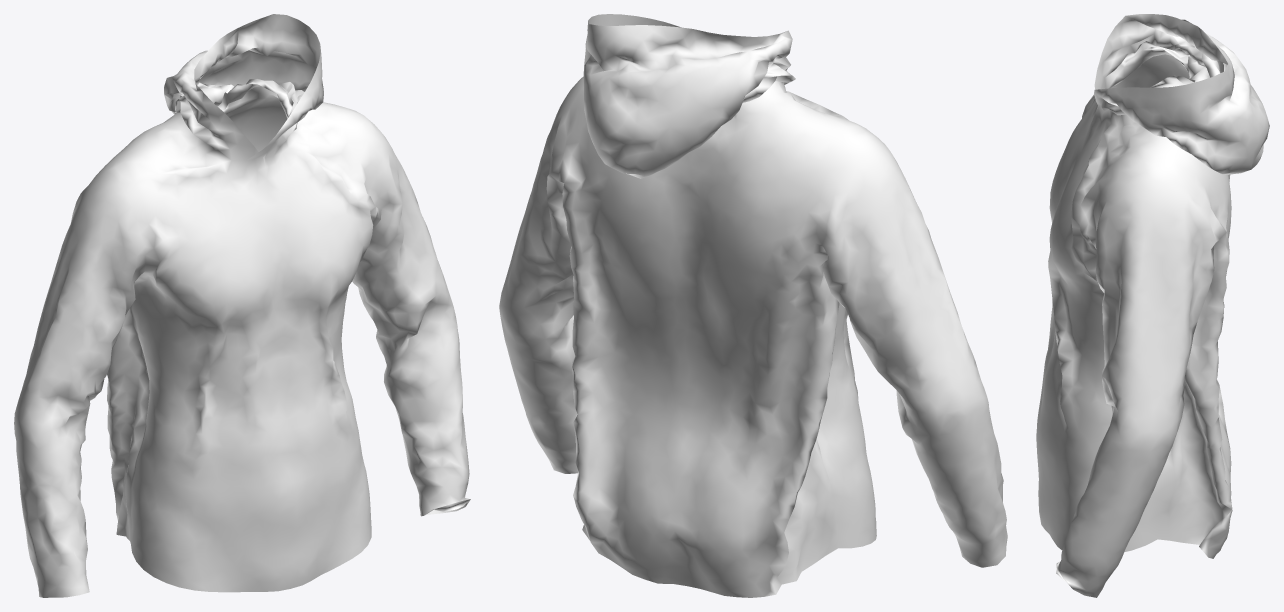
File: Tshirt.glb
3 views of the same model, side by side, from view 1: azimuth 30°, elevation 25°; view 2: azimuth 150°, elevation 25°; view 3: azimuth 270°, elevation 25° (orthographic). The views are drawn at different scales.
Parts seen in each view (by area): view 1: hoodiefbx; view 2: hoodiefbx; view 3: hoodiefbx.
Part boxes in pixels (x1,y1,x2,y2): hoodiefbx: (14,14,470,597); hoodiefbx: (499,14,1007,597); hoodiefbx: (1036,14,1269,597).
Size of the model in its own units: 0.6923 by 0.7591 by 0.3172.
2 materials, 2 textured.
